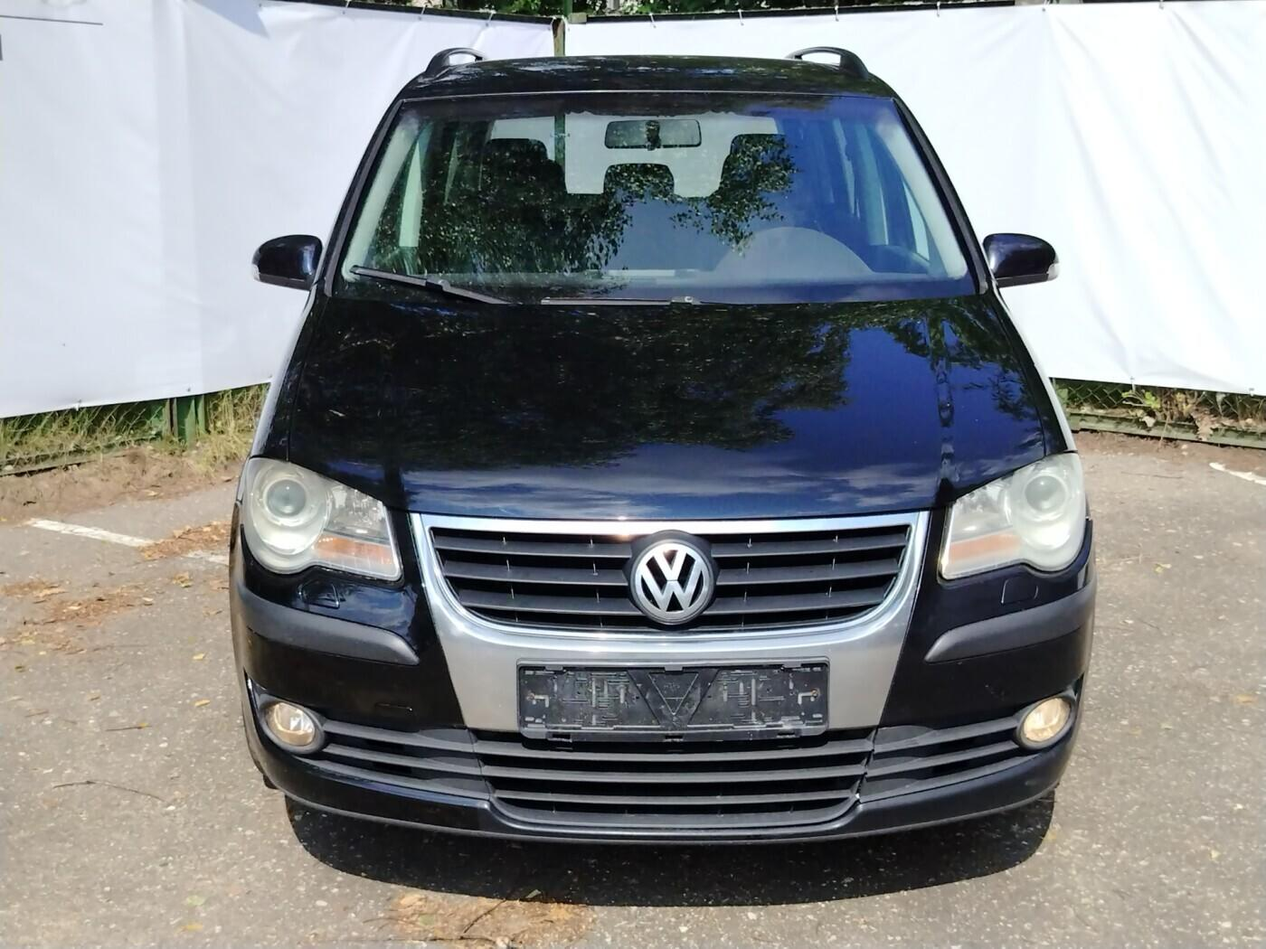Touran_2006-2010: (226, 48, 1098, 861)
